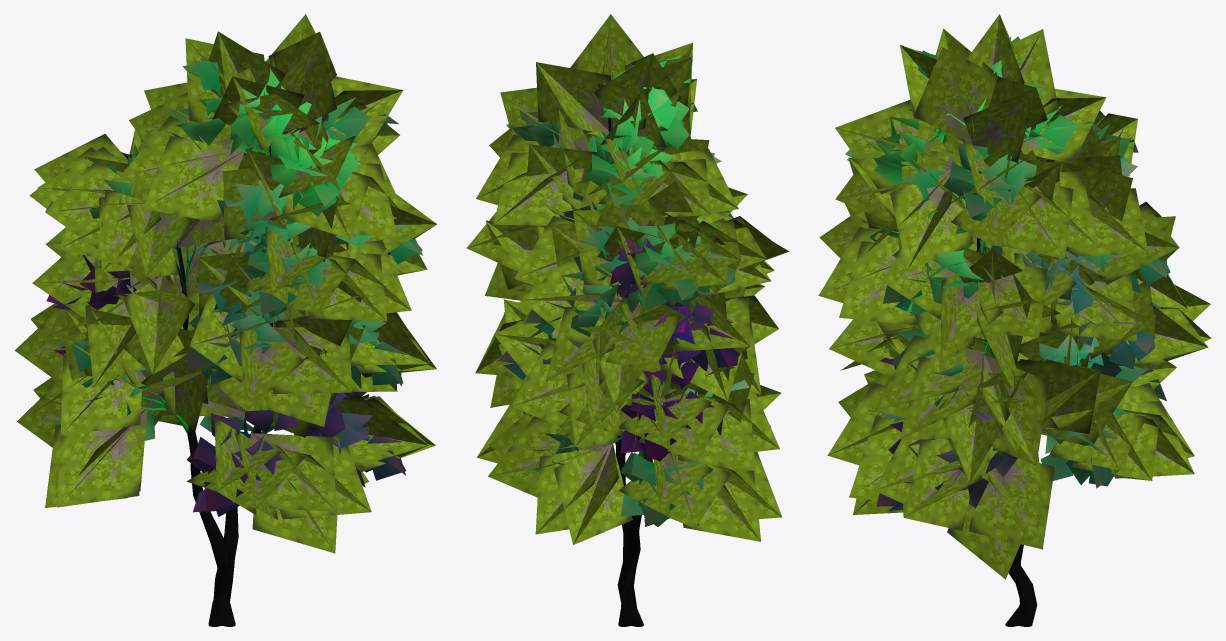
The model's file is Gen02_04Elm01d.fbx.
3 renders of one model, left to right at view 1: azimuth 30°, elevation 25°; view 2: azimuth 150°, elevation 25°; view 3: azimuth 270°, elevation 25°, orthographic. The views are drawn at different scales.
Visible parts, largest first — view 1: Tree_1, Tree_2, Tree_0; view 2: Tree_1, Tree_2, Tree_0; view 3: Tree_1, Tree_2, Tree_0.
Boxes of the visible parts, x1,y1,x2,y2 form: Tree_1: (15,14,436,553); Tree_2: (45,58,423,516); Tree_0: (128,89,333,626); Tree_1: (466,14,789,544); Tree_2: (498,55,770,526); Tree_0: (555,117,673,626); Tree_1: (818,14,1211,579); Tree_2: (845,36,1170,510); Tree_0: (959,134,1077,626).
Size of the model in its own units: 69.72 by 122 by 71.97.
